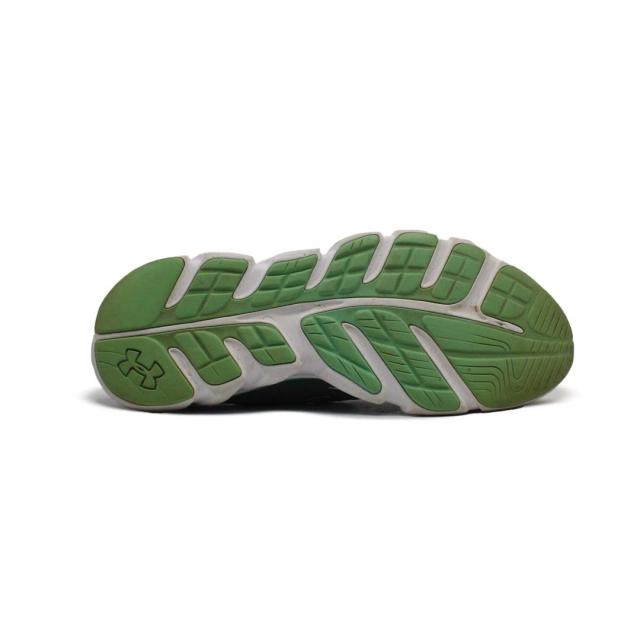outersole: (93, 230, 574, 414)
